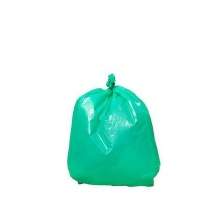plastic_bag: (60, 69, 175, 190)
